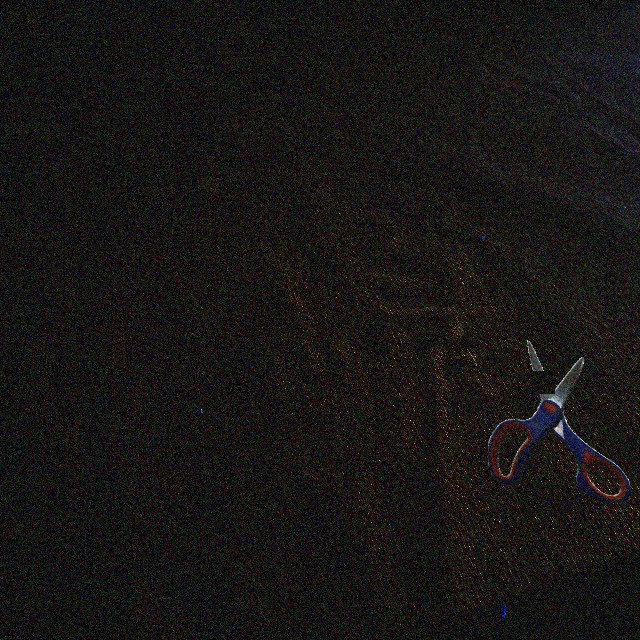scissors: (488, 340, 630, 503)
